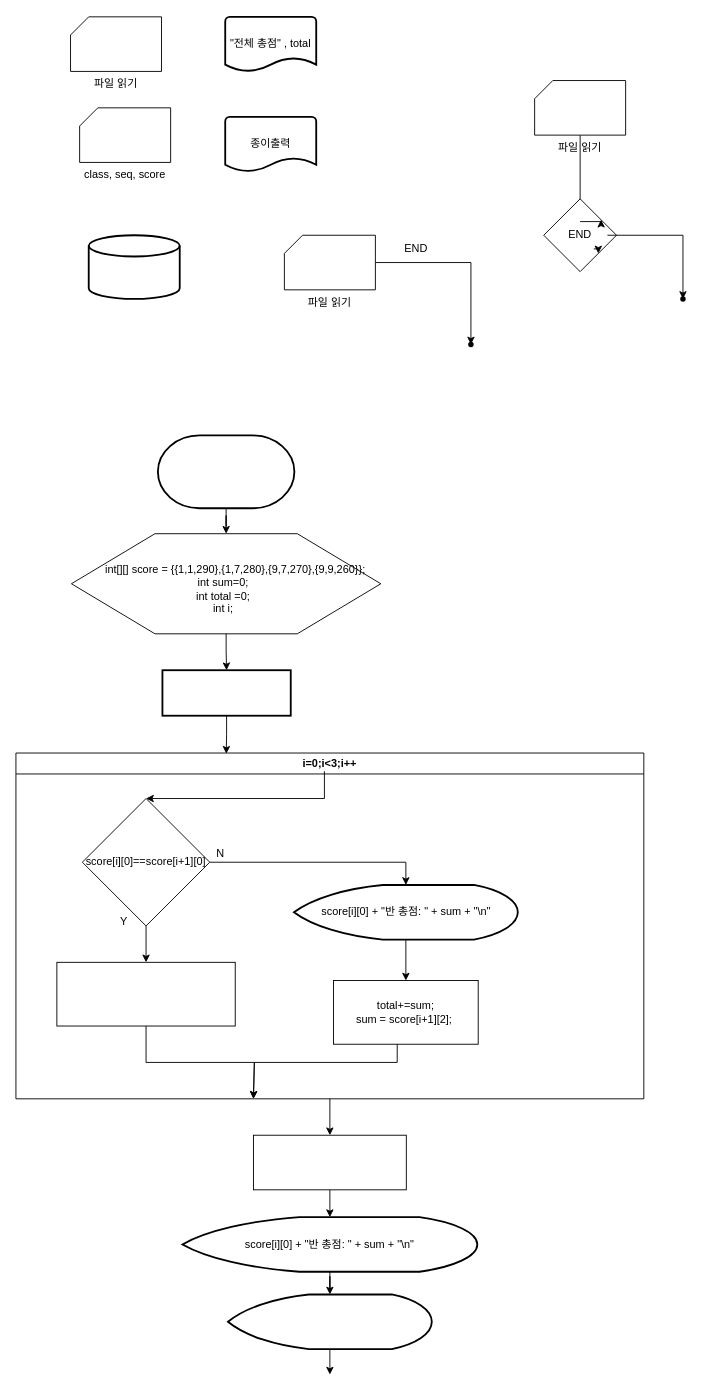
The diagram is 708 pixels wide and 1398 high, and some of its shapes have lost their labels. Each missing label, with the centre of its shape:
"전체 총점: " + total: (x=329, y=1321)
START: (x=226, y=471)
sum += score[i+1][2];: (x=145, y=993)
sum = score[0][2];: (x=226, y=692)
total += sum;: (x=329, y=1162)
파일에 쓰기: (x=133, y=266)
